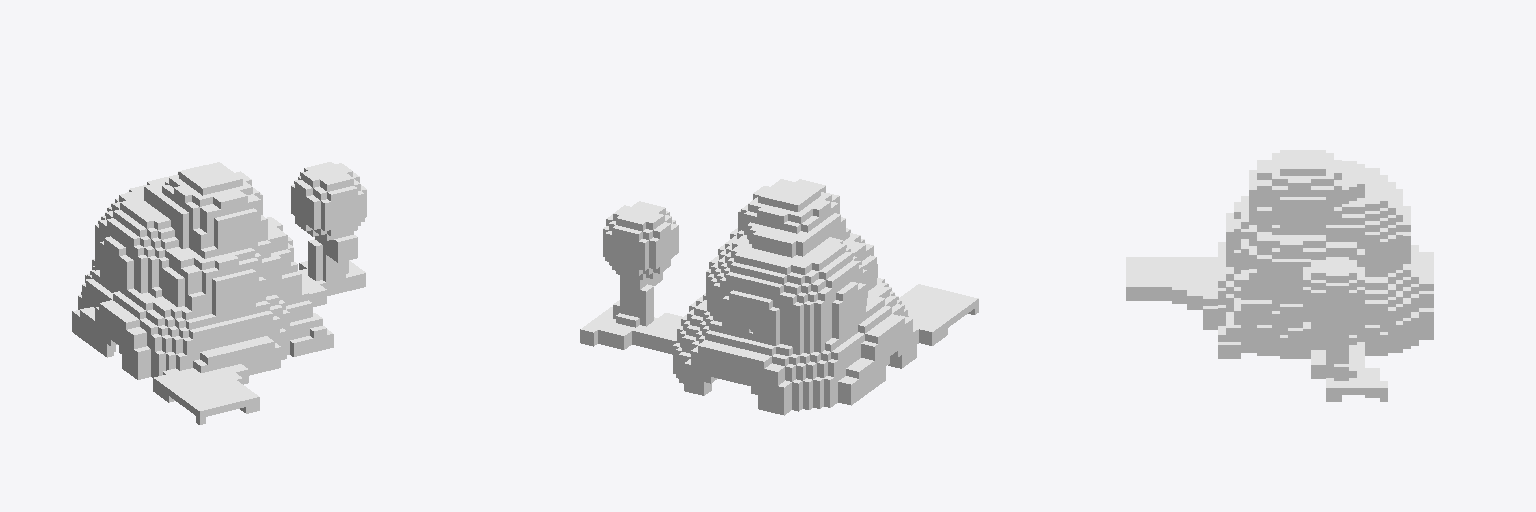
Rendered from ZonaMundoPelea-10-ZonaMontaña2.obj.
3 views of the same model, side by side, from view 1: azimuth 30°, elevation 25°; view 2: azimuth 150°, elevation 25°; view 3: azimuth 270°, elevation 25° (orthographic).
Visible parts, largest first — view 1: ZonaMontaña2; view 2: ZonaMontaña2; view 3: ZonaMontaña2.
Boxes of the visible parts, box(x1,y1,x2,y2) form: ZonaMontaña2: box(72, 162, 366, 424); ZonaMontaña2: box(580, 179, 978, 415); ZonaMontaña2: box(1126, 150, 1433, 401).
Size of the model in its own units: 8 by 4.6 by 8.